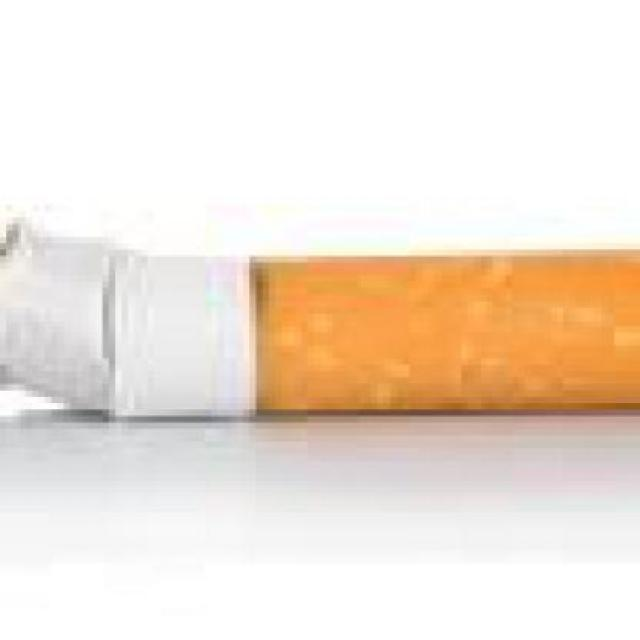cigarette: (38, 212, 634, 454)
